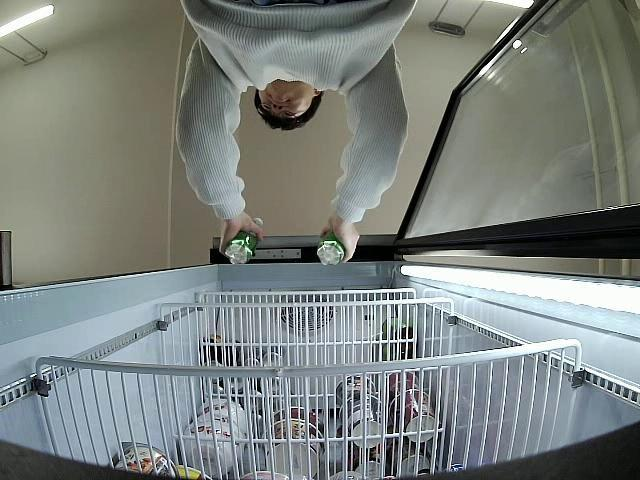18_trevi: (225, 214, 265, 266), (314, 235, 346, 270)
